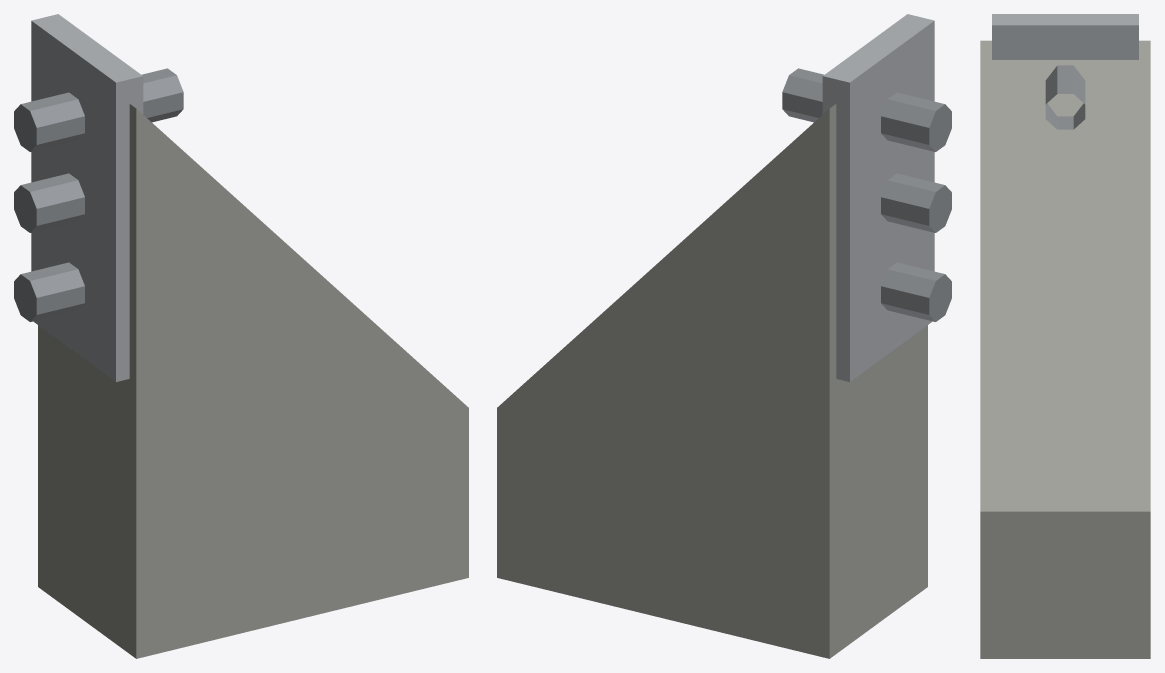
Rendered from guardrail_cable_anchor_inv.obj.
3 renders of one model, left to right at view 1: azimuth 30°, elevation 25°; view 2: azimuth 150°, elevation 25°; view 3: azimuth 270°, elevation 25°, orthographic. The views are drawn at different scales.
Visible parts, largest first — view 1: guardrail_cable_anchor_inv; view 2: guardrail_cable_anchor_inv; view 3: guardrail_cable_anchor_inv.
Part boxes in pixels (bbox=[...]): guardrail_cable_anchor_inv: bbox=[14, 14, 468, 658]; guardrail_cable_anchor_inv: bbox=[497, 14, 951, 658]; guardrail_cable_anchor_inv: bbox=[980, 14, 1150, 658].
Bounding box in the file's own units: 0.6734 × 0.9375 × 0.2905.
